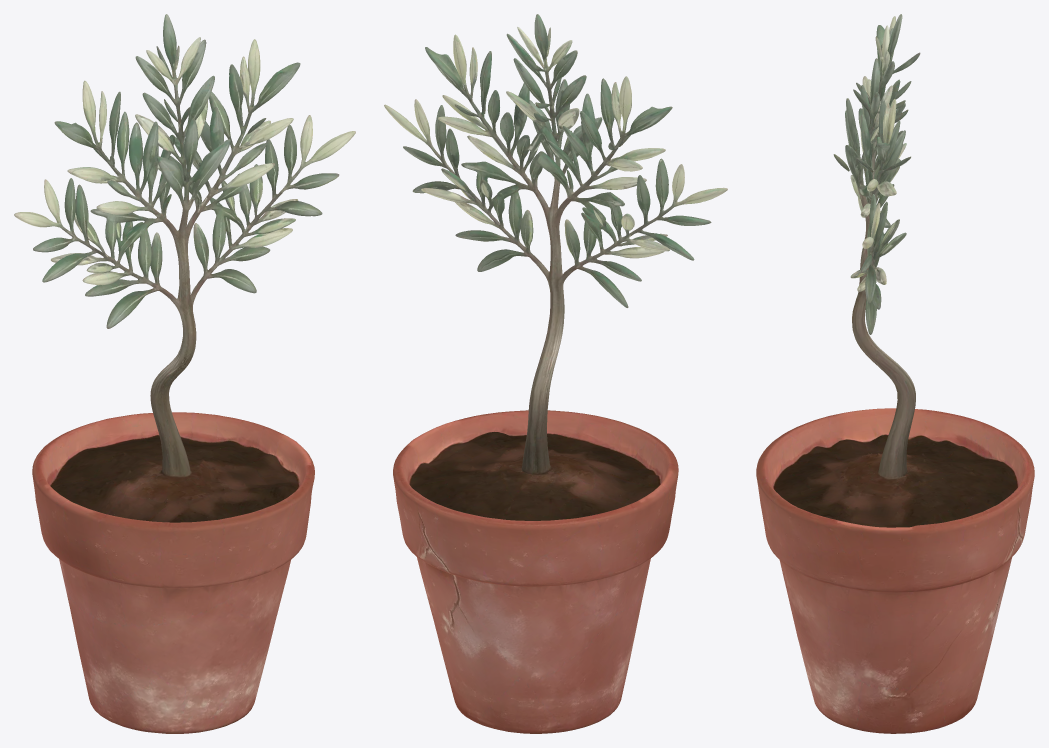
Rendered from young.glb.
3 renders of one model, left to right at view 1: azimuth 30°, elevation 25°; view 2: azimuth 150°, elevation 25°; view 3: azimuth 270°, elevation 25°, orthographic.
Size of the model in its own units: 0.9884 by 1.9 by 0.7.
Materials: 1 (1 with a texture image).
